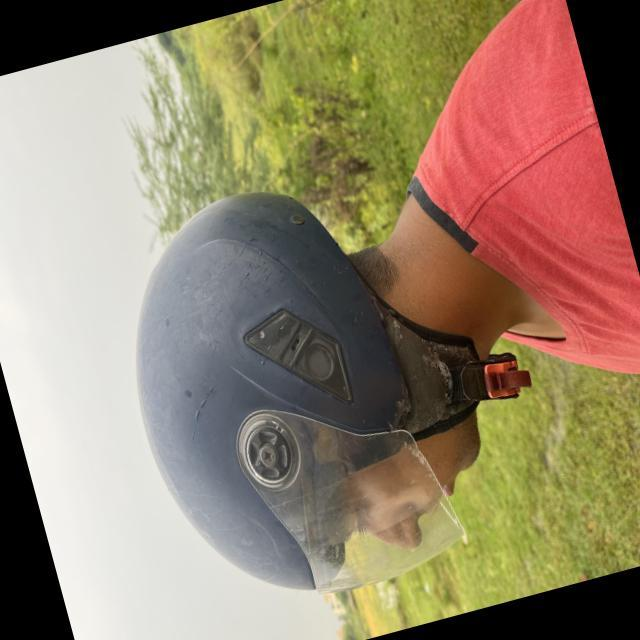WITH_HELMET: (94, 124, 531, 640)
